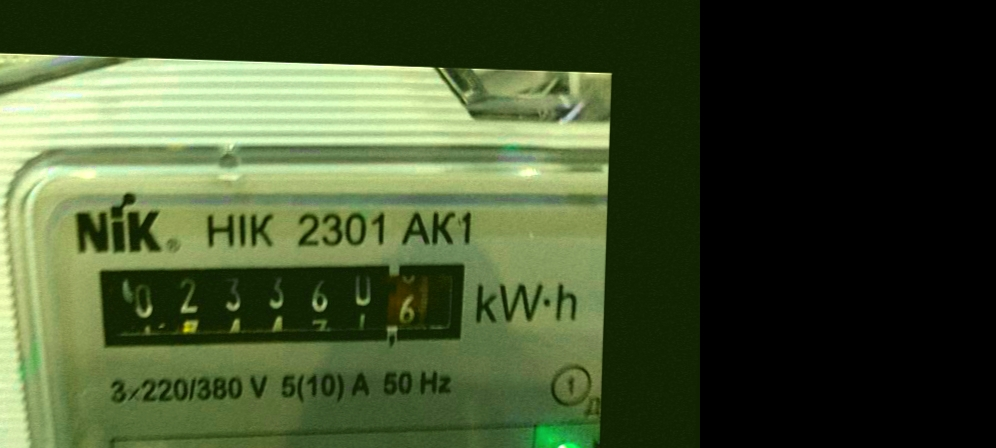0: (129, 278, 155, 321), (350, 270, 374, 308)
2: (173, 273, 201, 314)
3: (220, 273, 243, 314), (262, 272, 286, 311)
6: (304, 274, 332, 315), (396, 291, 418, 327)
screen: (74, 237, 478, 368)
